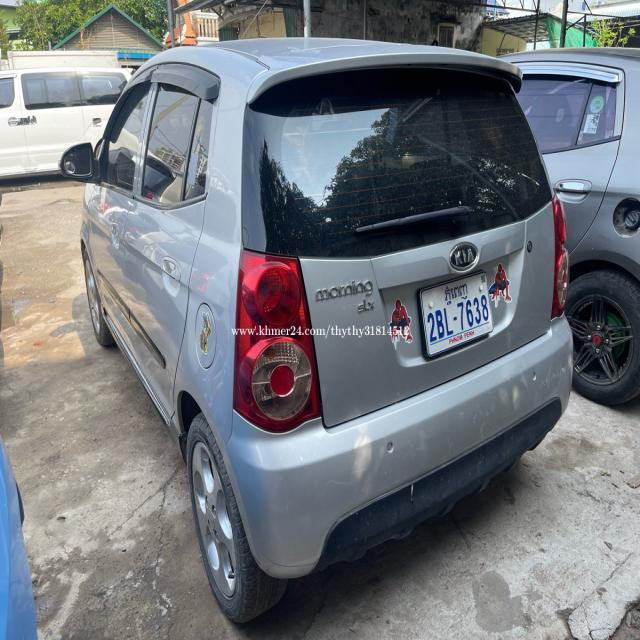Phnom_Penh: (443, 282, 470, 306)
